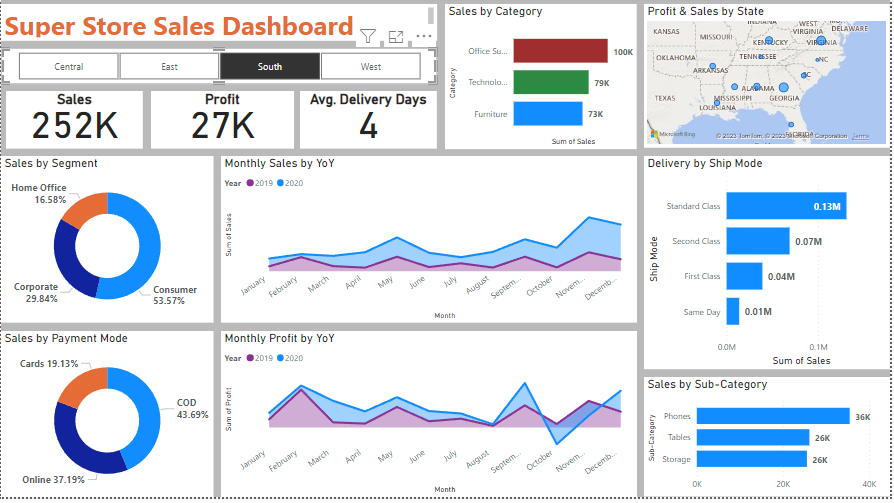

The page's visual inventory and layout, read from the dashboard file:
{"tool":"powerbi","page":{"name":"Page 1","canvas":[1280,720],"ordinal":0},"visuals":[{"type":"clusteredBarChart","title":"Sales by Category","fields":{"Category":["Sheet1.Category"],"Y":["Sum(Sheet1.Sales)"]},"box":[639.4,10.1,276.5,208.8],"z":0},{"type":"clusteredBarChart","title":"Sales by Sub-Category","fields":{"Category":["Sheet1.Sub-Category"],"Y":["Sum(Sheet1.Sales)"]},"box":[925.5,547.5,355,172.5],"z":1000},{"type":"clusteredBarChart","title":"Delivery by Ship Mode","fields":{"Category":["Sheet1.Ship Mode"],"Y":["Sum(Sheet1.Sales)"]},"box":[925.9,229,354.2,306.7],"z":2000},{"type":"stackedAreaChart","title":"Monthly Sales by YoY","fields":{"Category":["Sheet1.Order Date.Variation.Date Hierarchy.Month"],"Y":["Sum(Sheet1.Sales)"],"Series":["Sheet1.Order Date.Variation.Date Hierarchy.Year"]},"box":[316.2,228.5,599.3,240],"z":3000},{"type":"stackedAreaChart","title":"Monthly Profit by YoY","fields":{"Category":["Sheet1.Order Date.Variation.Date Hierarchy.Month"],"Series":["Sheet1.Order Date.Variation.Date Hierarchy.Year"],"Y":["Sum(Sheet1.Profit)"]},"box":[316.2,481.4,599.3,238.6],"z":4000},{"type":"donutChart","title":"Sales by Payment Mode","fields":{"Category":["Sheet1.Payment Mode"],"Y":["Sum(Sheet1.Sales)"]},"box":[0,481.4,306.1,238.6],"z":5000},{"type":"donutChart","title":"Sales by Segment","fields":{"Category":["Sheet1.Segment"],"Y":["Sum(Sheet1.Sales)"]},"box":[0,228.5,306.1,240],"z":6000},{"type":"textbox","box":[0,10.1,627.8,53.3],"z":7000},{"type":"slicer","fields":{"Values":["Sheet1.Region"]},"box":[0,73.3,628,51.7],"z":8000},{"type":"card","title":"Sales","fields":{"Values":["Sum(Sheet1.Sales)"]},"box":[7.2,135.1,196.9,83.4],"z":9000},{"type":"card","title":"Profit","fields":{"Values":["Sum(Sheet1.Profit)"]},"box":[215.6,135.1,205.5,83.4],"z":10000},{"type":"card","title":"Avg. Delivery Days","fields":{"Values":["Avg(Sheet1.ADT)"]},"box":[431.1,135.1,196.9,83.4],"z":11000},{"type":"map","title":"Profit & Sales by State","fields":{"Size":["Sum(Sheet1.Profit)"],"Category":["Sheet1.State"]},"box":[925.9,10.1,354.2,207.4],"z":11001}]}

Visuals, with their boxes in screenshot pixels (x1, y1, x2, y2), scaled from the page's 1280x720 canvas onto the 894x503 screenshot:
"Sales by Category" clusteredBarChart: x1=447, y1=7, x2=640, y2=153
"Sales by Sub-Category" clusteredBarChart: x1=646, y1=382, x2=893, y2=502
"Delivery by Ship Mode" clusteredBarChart: x1=647, y1=160, x2=893, y2=374
"Monthly Sales by YoY" stackedAreaChart: x1=221, y1=160, x2=639, y2=327
"Monthly Profit by YoY" stackedAreaChart: x1=221, y1=336, x2=639, y2=502
"Sales by Payment Mode" donutChart: x1=0, y1=336, x2=214, y2=502
"Sales by Segment" donutChart: x1=0, y1=160, x2=214, y2=327
textbox: x1=0, y1=7, x2=438, y2=44
slicer - Sheet1.Region: x1=0, y1=51, x2=439, y2=87
"Sales" card: x1=5, y1=94, x2=143, y2=153
"Profit" card: x1=151, y1=94, x2=294, y2=153
"Avg. Delivery Days" card: x1=301, y1=94, x2=439, y2=153
"Profit & Sales by State" map: x1=647, y1=7, x2=893, y2=152
